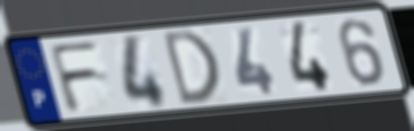4: (120, 32, 169, 111), (289, 19, 335, 95), (233, 25, 279, 98)
6: (335, 16, 389, 88)
D: (160, 26, 224, 109)
F: (45, 38, 104, 116)
